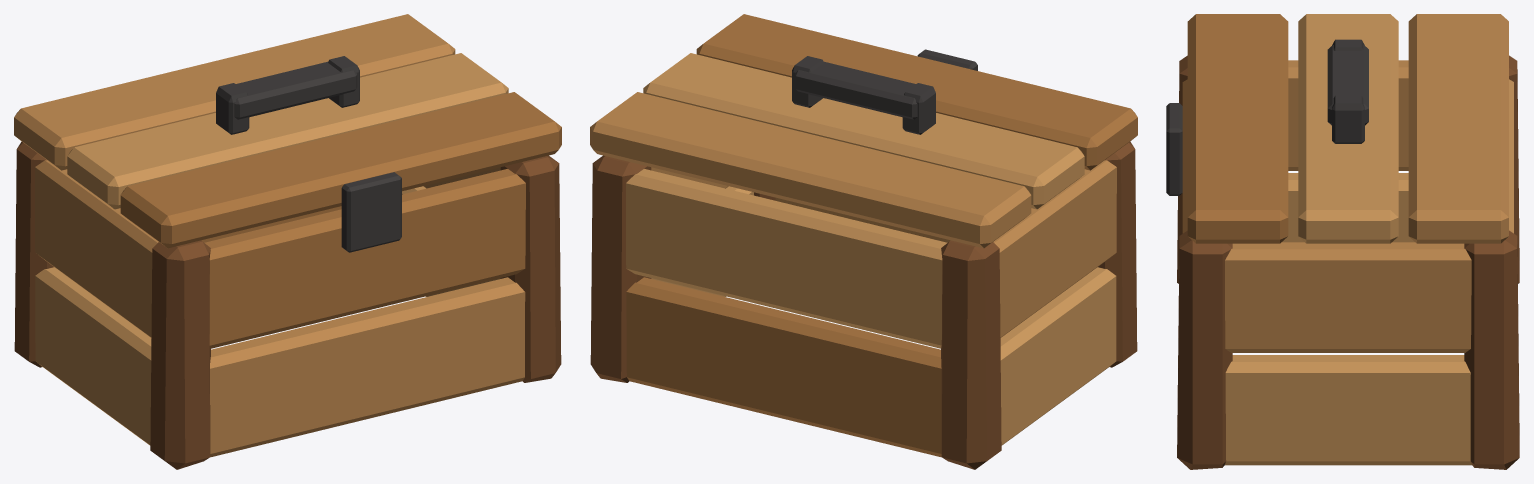
File: tackle_crate.glb
3 renders of one model, left to right at view 1: azimuth 30°, elevation 25°; view 2: azimuth 150°, elevation 25°; view 3: azimuth 270°, elevation 25°, orthographic. The views are drawn at different scales.
Parts seen in each view (by area): view 1: tackle_crate; view 2: tackle_crate; view 3: tackle_crate.
Boxes of the visible parts, box(x1,y1,x2,y2) form: tackle_crate: box(14, 14, 561, 469); tackle_crate: box(590, 14, 1137, 469); tackle_crate: box(1166, 14, 1519, 469).
Size of the model in its own units: 0.58 by 0.4047 by 0.4268.
